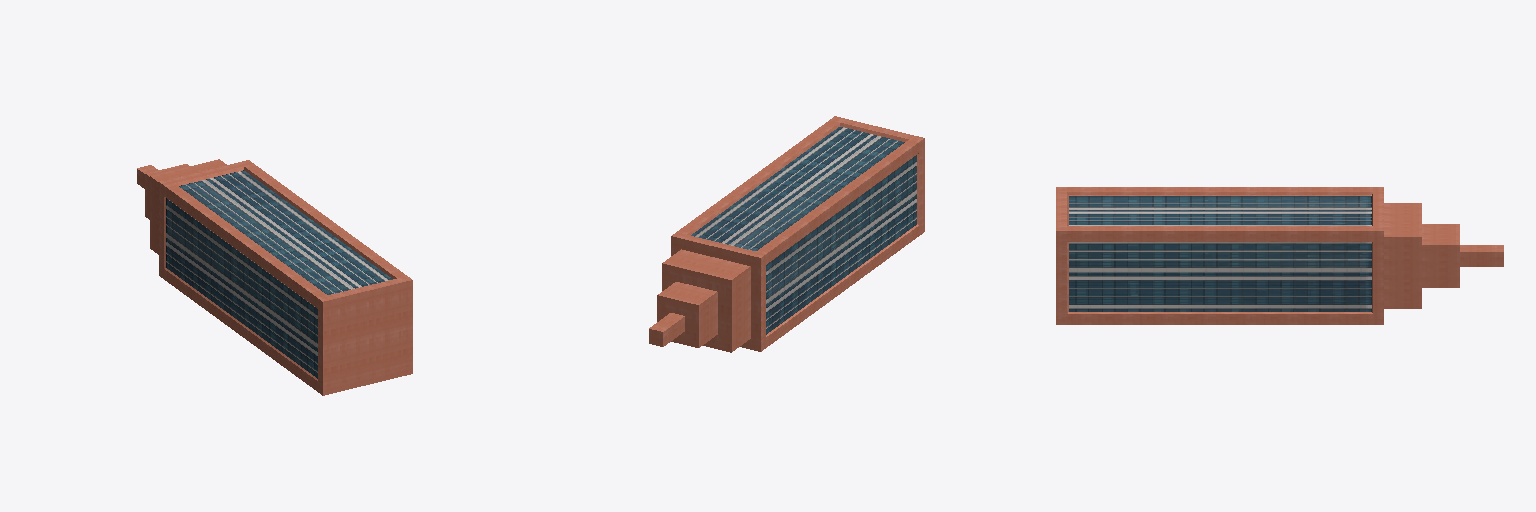
3 renders of one model, left to right at view 1: azimuth 30°, elevation 25°; view 2: azimuth 150°, elevation 25°; view 3: azimuth 270°, elevation 25°, orthographic.
Parts seen in each view (by area): view 1: buildings-comercial-06_Cube.001; view 2: buildings-comercial-06_Cube.001; view 3: buildings-comercial-06_Cube.001.
Part boxes in pixels (x1,y1,x2,y2): buildings-comercial-06_Cube.001: (137,159,412,395); buildings-comercial-06_Cube.001: (649,116,924,352); buildings-comercial-06_Cube.001: (1056,187,1503,324).
Size of the model in its own units: 3.79 by 3.79 by 16.34.
Materials: 1 (1 with a texture image).